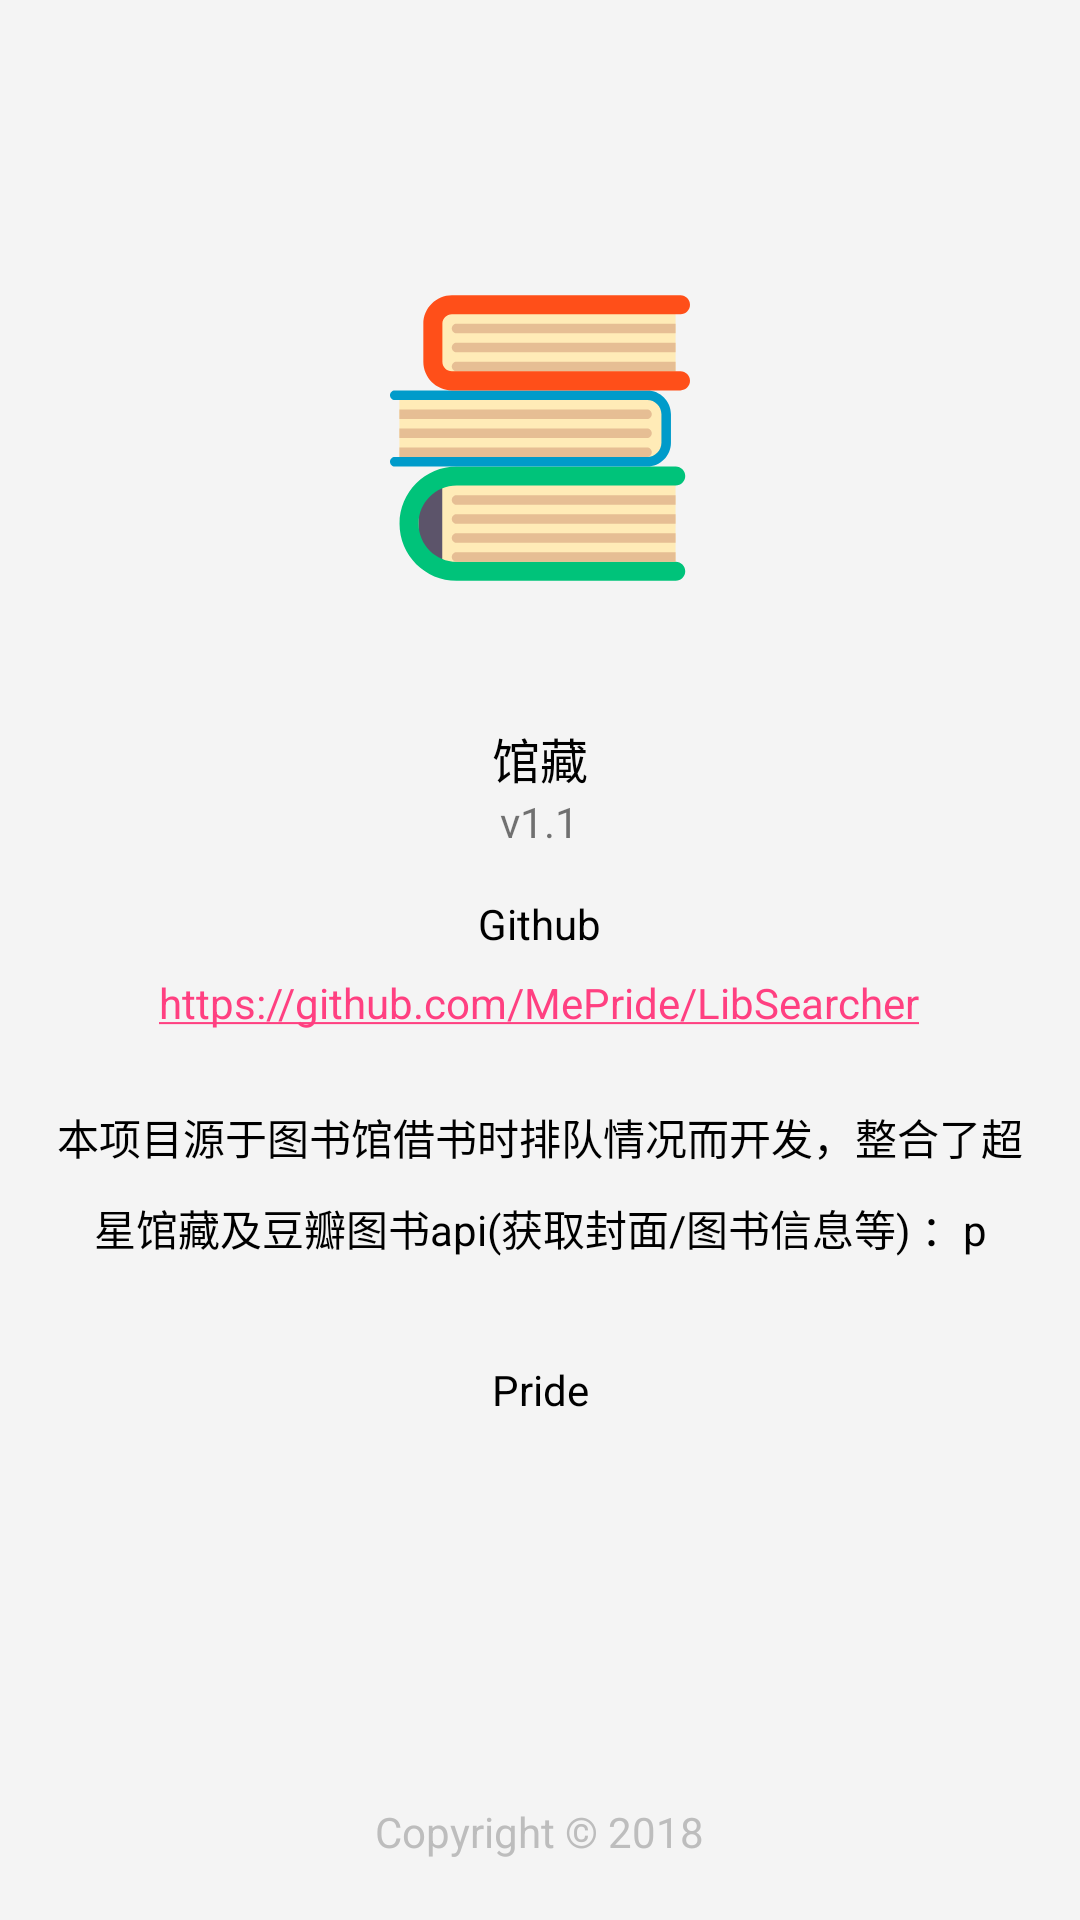

Named icons in this screenshot (1080 x 1920) and their bounding boxes, BBox(x1, y1, x2, y2):
books: BBox(390, 295, 690, 581)
